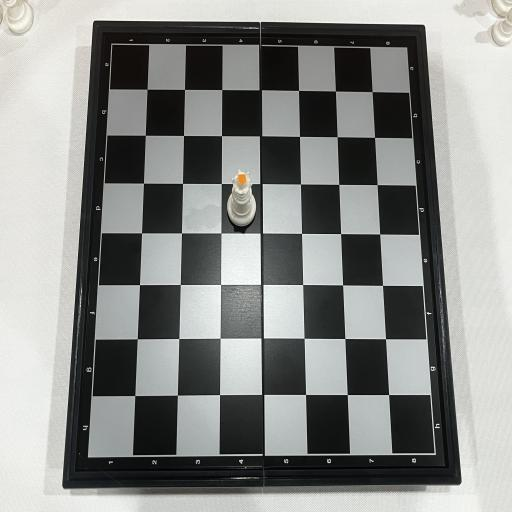White queen: (227, 170, 256, 226)
